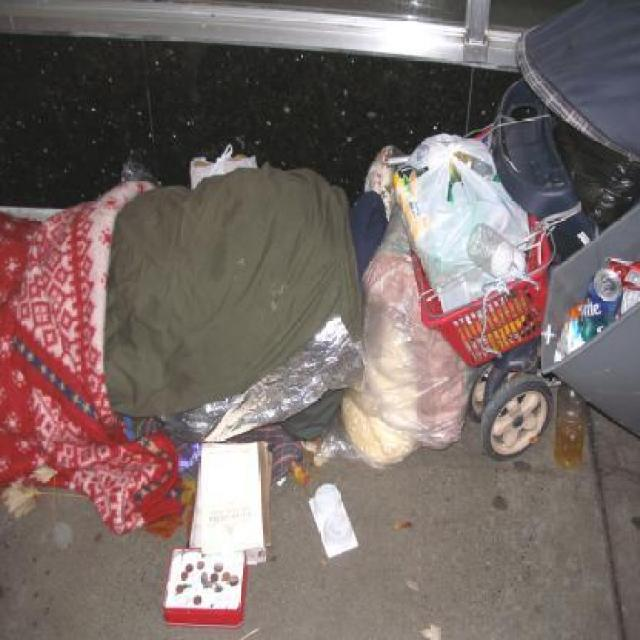plastic bag: (340, 197, 474, 451), (392, 129, 530, 325), (337, 392, 423, 466), (190, 140, 258, 185)
